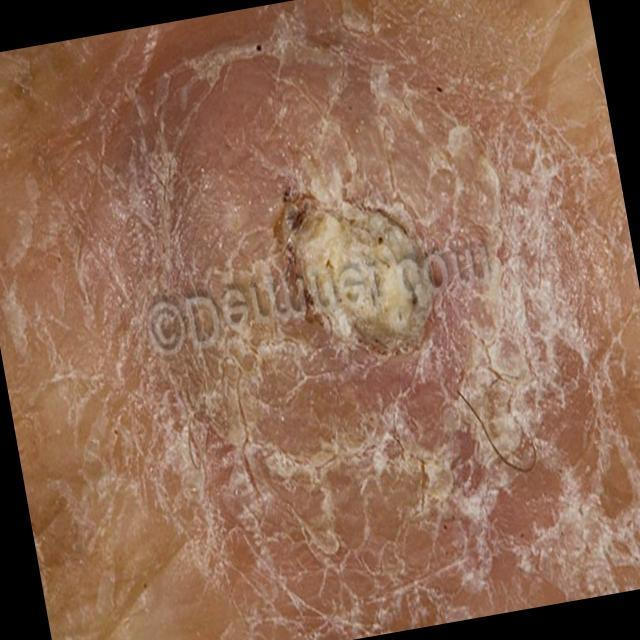Eczema: (117, 32, 590, 570)
